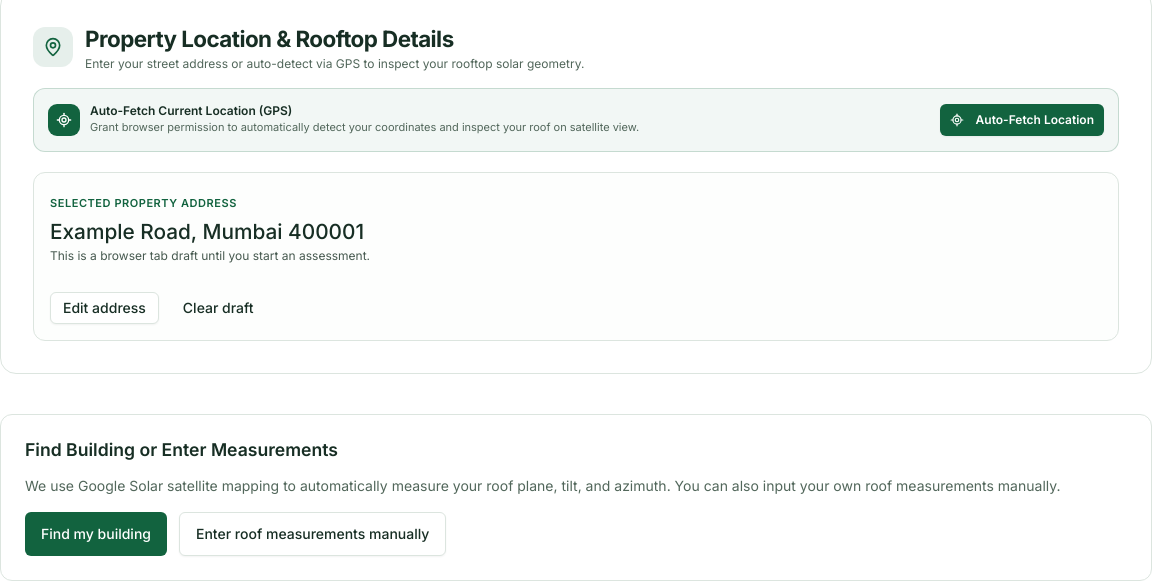
Test: roof analysis flow › requires explicit building and roof confirmation before saving Google measurements
(page scrolled)
Expected: the text "Example Road, Mumbai 400001" is shown, left=50, top=216, right=370, bottom=248
Click the button "Find my building": (96, 534) left=25, top=512, right=167, bottom=556
(page scrolled)
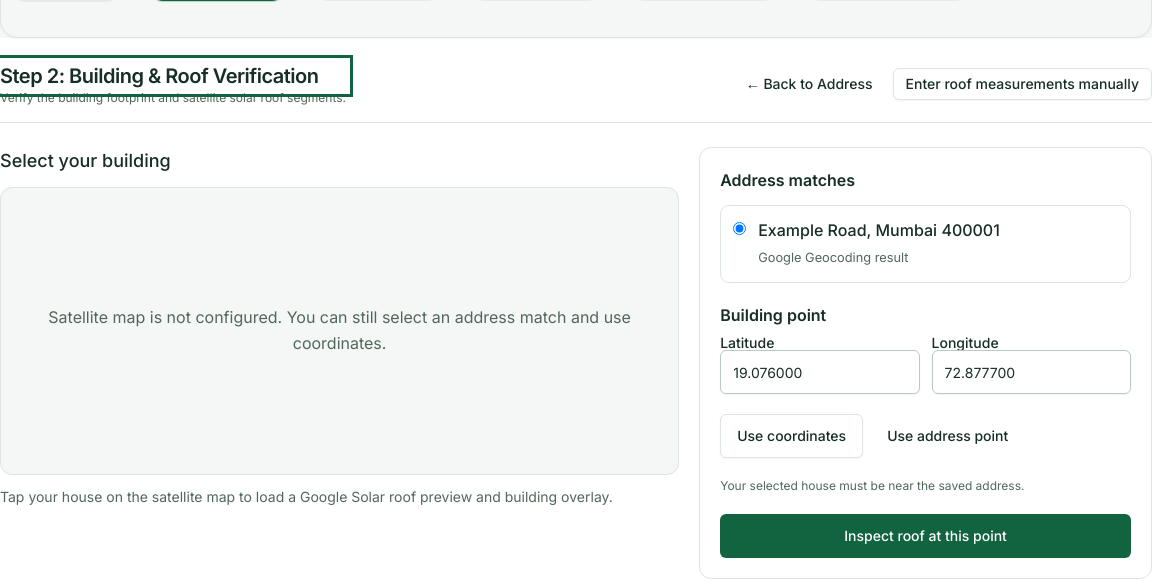
Expected: the button "Inspect roof at this point" is shown
Expected: the text "Satellite map is not configured" is shown, left=48, top=307, right=631, bottom=353
Click the button "Inspect roof at this point": (926, 536) left=720, top=514, right=1131, bottom=558
(page scrolled)
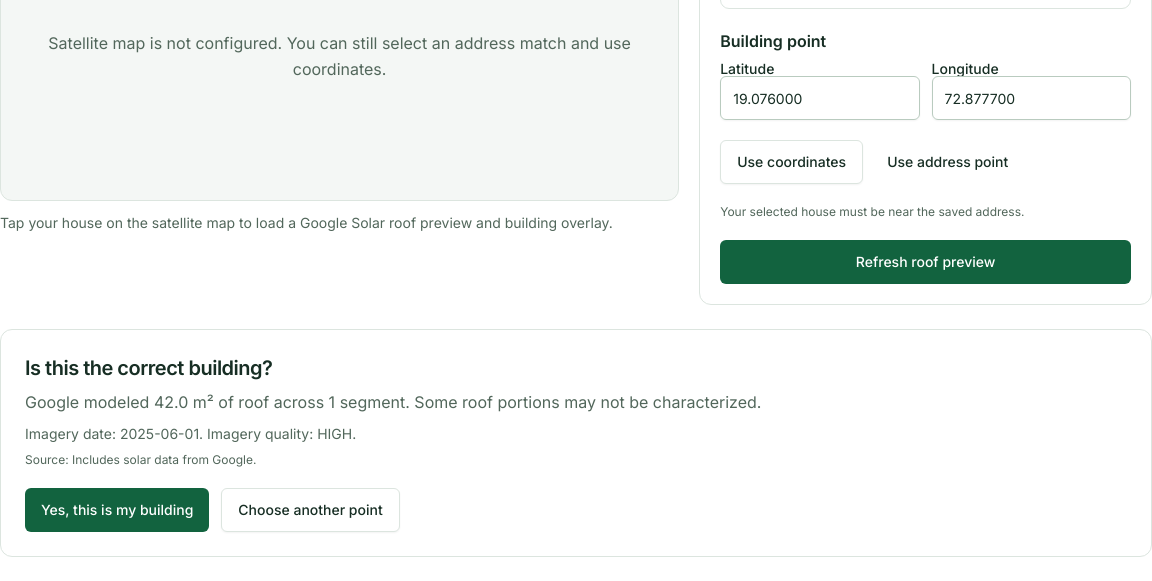
Expected: the heading "Is this the correct building?" is shown, left=25, top=356, right=272, bottom=380
Expected: the text "Source: Includes solar data from Google." is shown, left=25, top=452, right=256, bottom=467
Click the button "Yes, this is my building": (117, 510) left=25, top=488, right=209, bottom=532
(page scrolled)
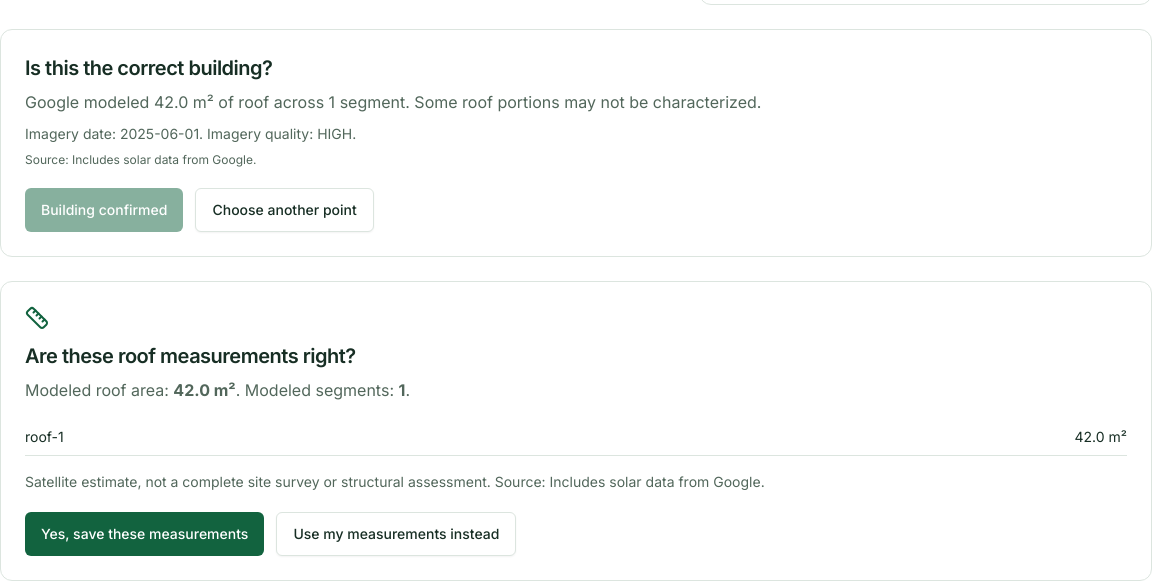
Expected: the heading "Are these roof measurements right?" is shown, left=25, top=344, right=356, bottom=368
Click the button "Yes, save these measurements": (145, 534) left=25, top=512, right=264, bottom=556
(page scrolled)
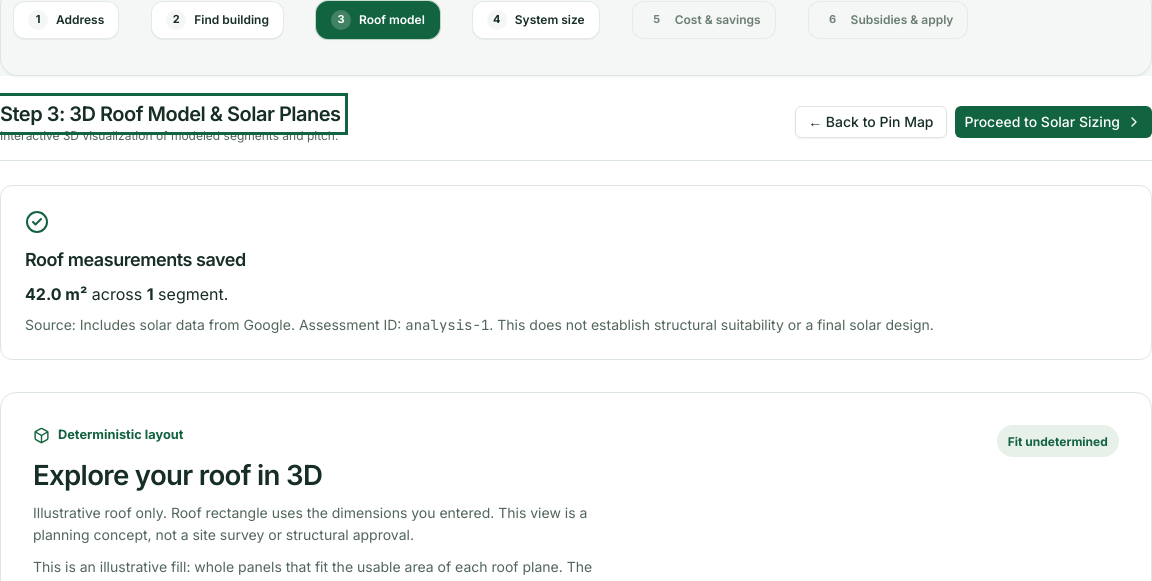
Expected: the heading "Roof measurements saved" is shown, left=25, top=249, right=246, bottom=270
